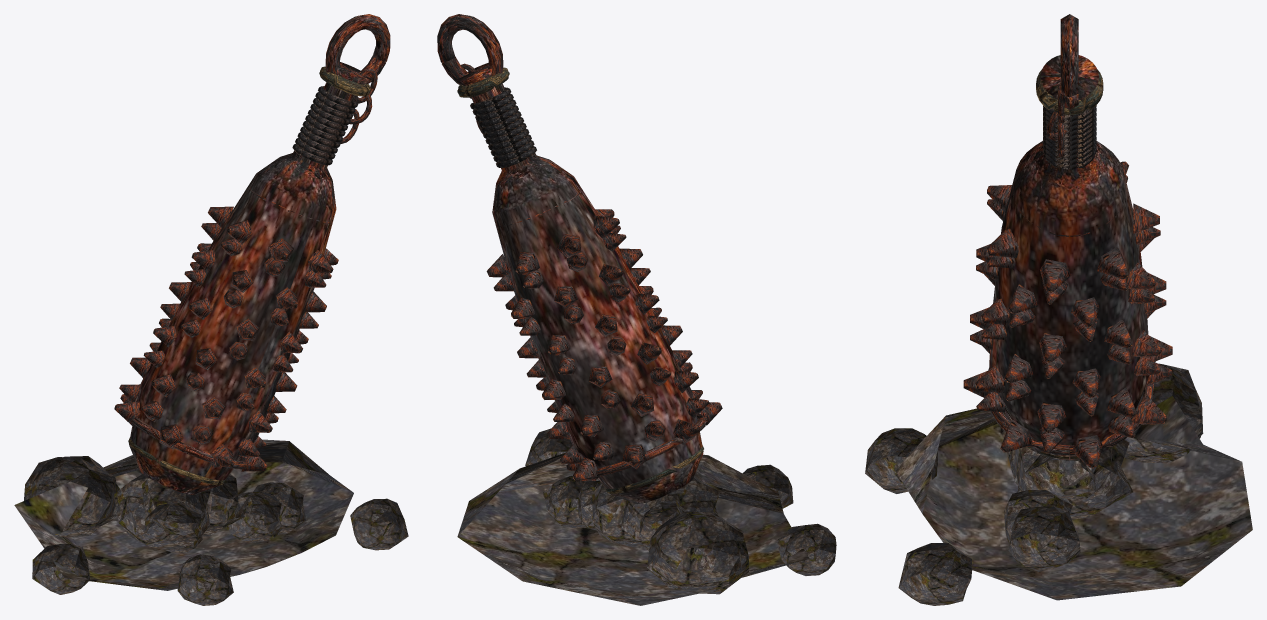
The model's file is nyanisyarud-oni-kanabo.glb.
3 renders of one model, left to right at view 1: azimuth 30°, elevation 25°; view 2: azimuth 150°, elevation 25°; view 3: azimuth 270°, elevation 25°, orthographic. The views are drawn at different scales.
Parts seen in each view (by area): view 1: 05 Giant Iron Kanabo; view 2: 05 Giant Iron Kanabo; view 3: 05 Giant Iron Kanabo.
Boxes of the visible parts, left/top/right/bottom form: 05 Giant Iron Kanabo: left=14, top=14, right=408, bottom=605; 05 Giant Iron Kanabo: left=437, top=14, right=836, bottom=605; 05 Giant Iron Kanabo: left=865, top=14, right=1252, bottom=605.
Size of the model in its own units: 4.39 by 5.56 by 3.18.
Materials: 4 (4 with a texture image).
